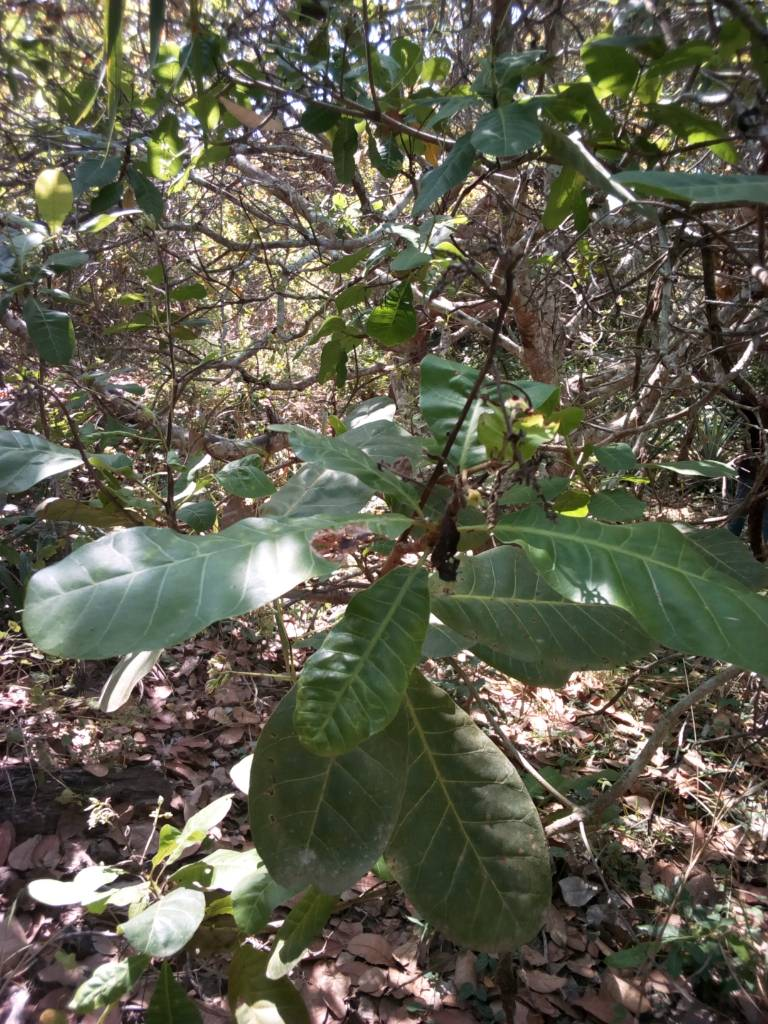Dessèchement des bourgeons: (424, 462, 471, 567)
